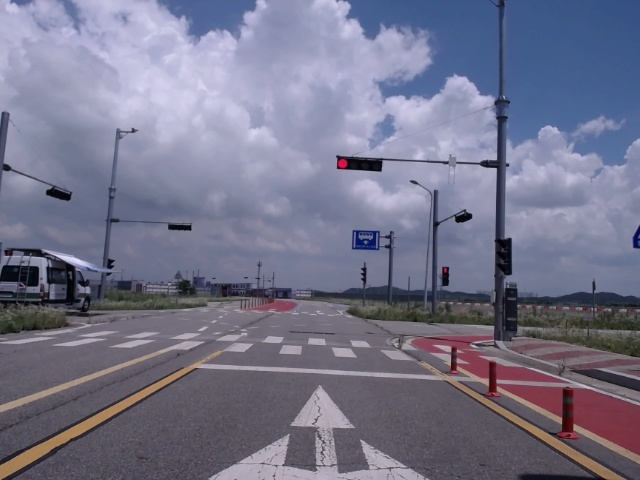red_4: (337, 158, 382, 172)
